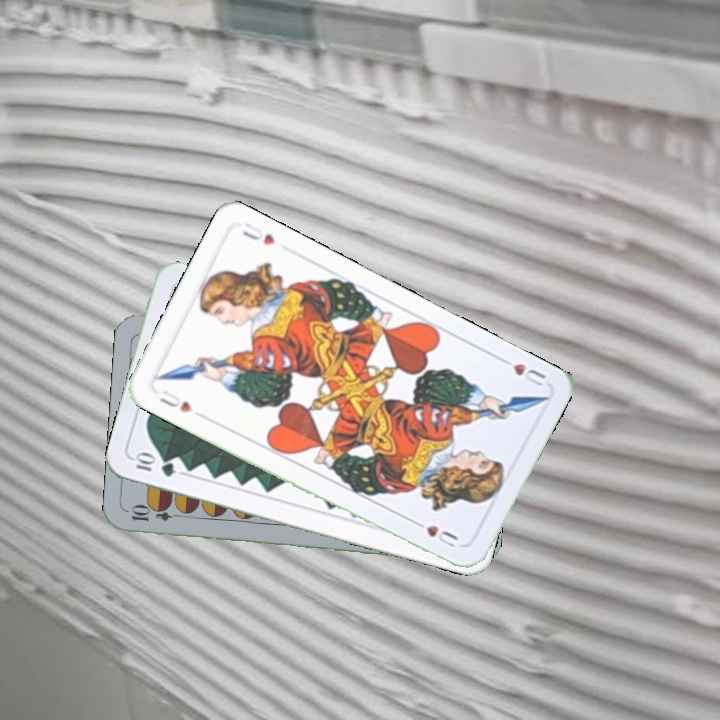E10: (127, 505, 186, 524)
G10: (131, 450, 178, 480)
HU: (494, 352, 549, 390), (155, 385, 195, 415)
